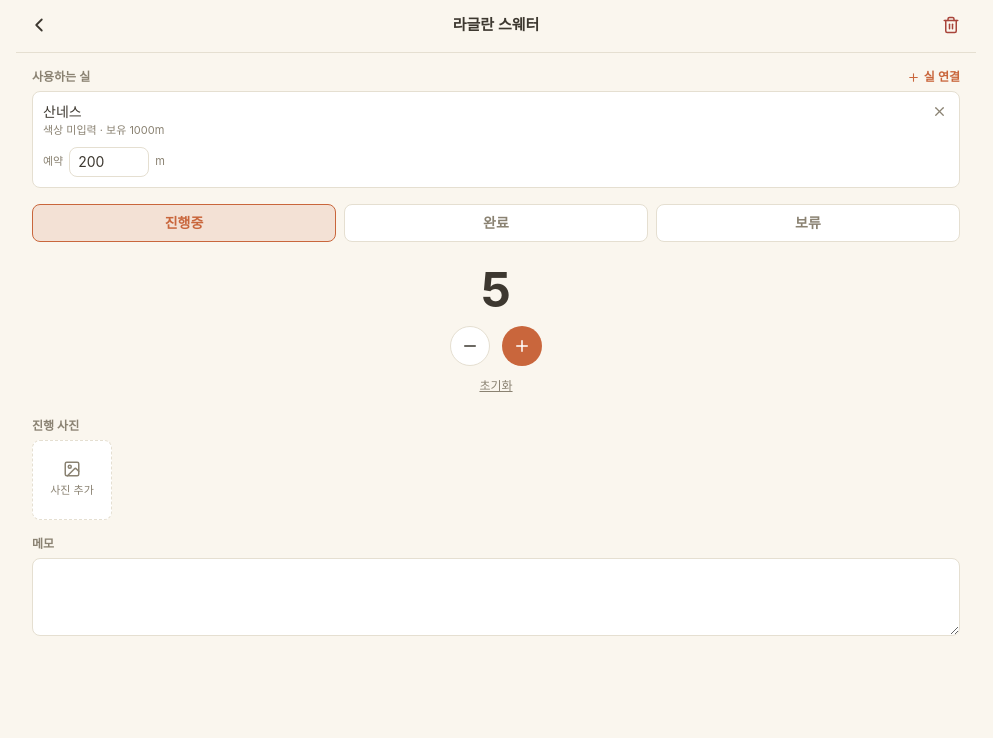
Test: ProjectDetailPage 단수 카운터 › 저장에 실패하면 서버 값으로 되돌리고 사유를 토스트로 보여준다
Click the button named "단수 늘리기" at [522, 346], box [502,326,542,366]
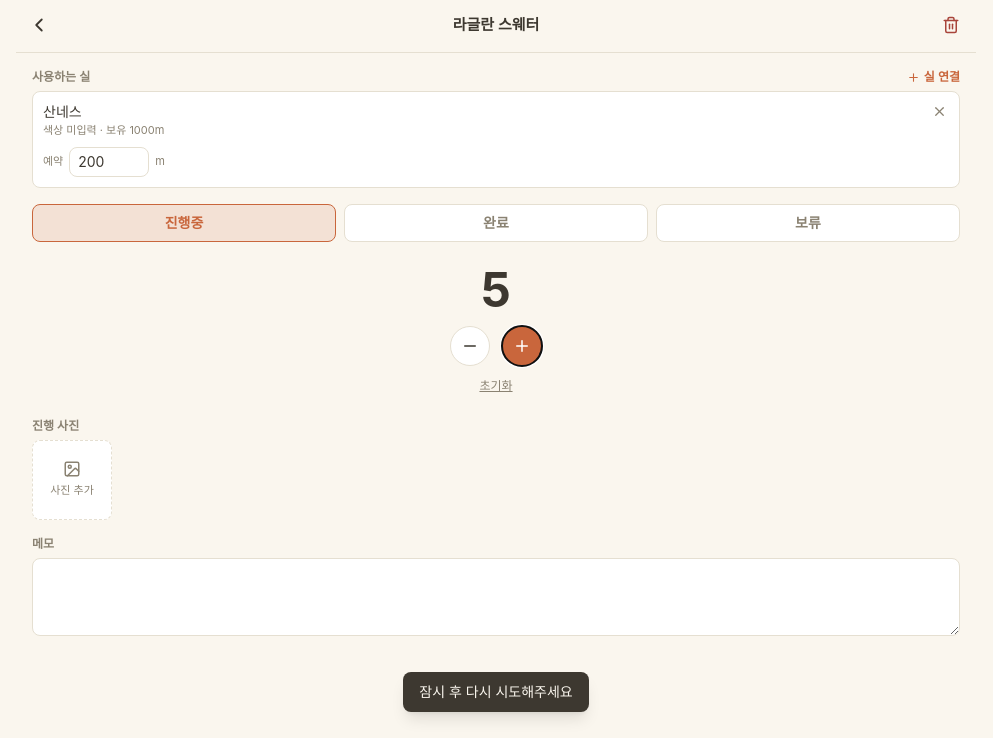
Expected: the text "5" is shown, [481,266,511,314]
Now the message reads "잠시 후 다시 시도해주세요", box [419,683,573,700]
